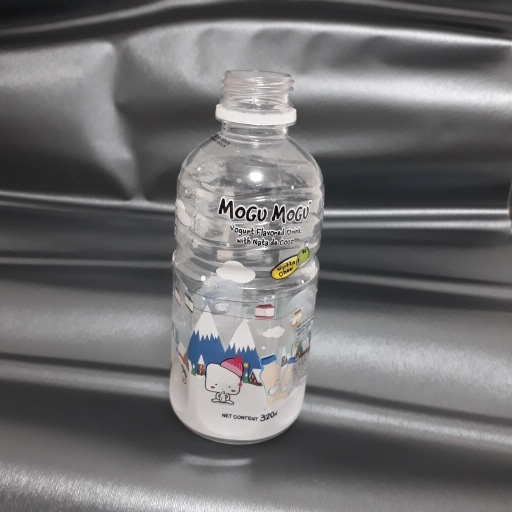Plastic_0: (168, 70, 326, 442)
